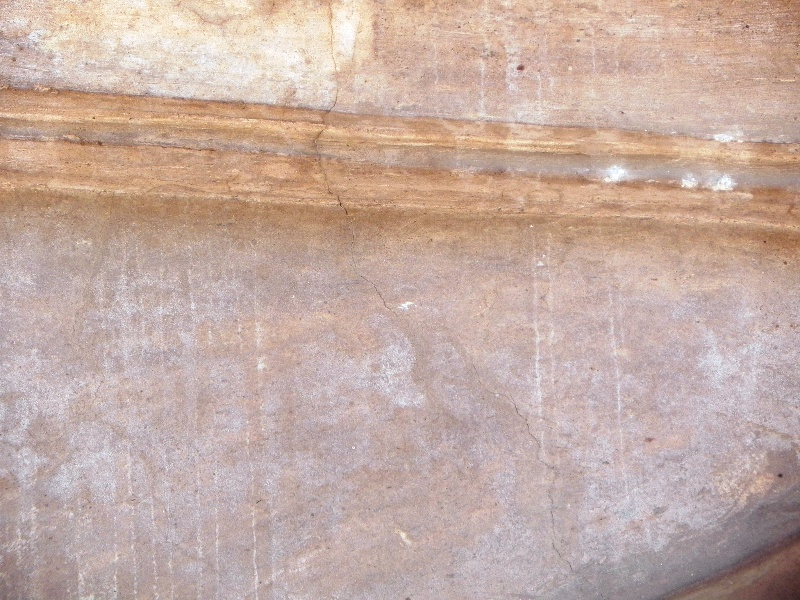Crack: (305, 9, 355, 222)
